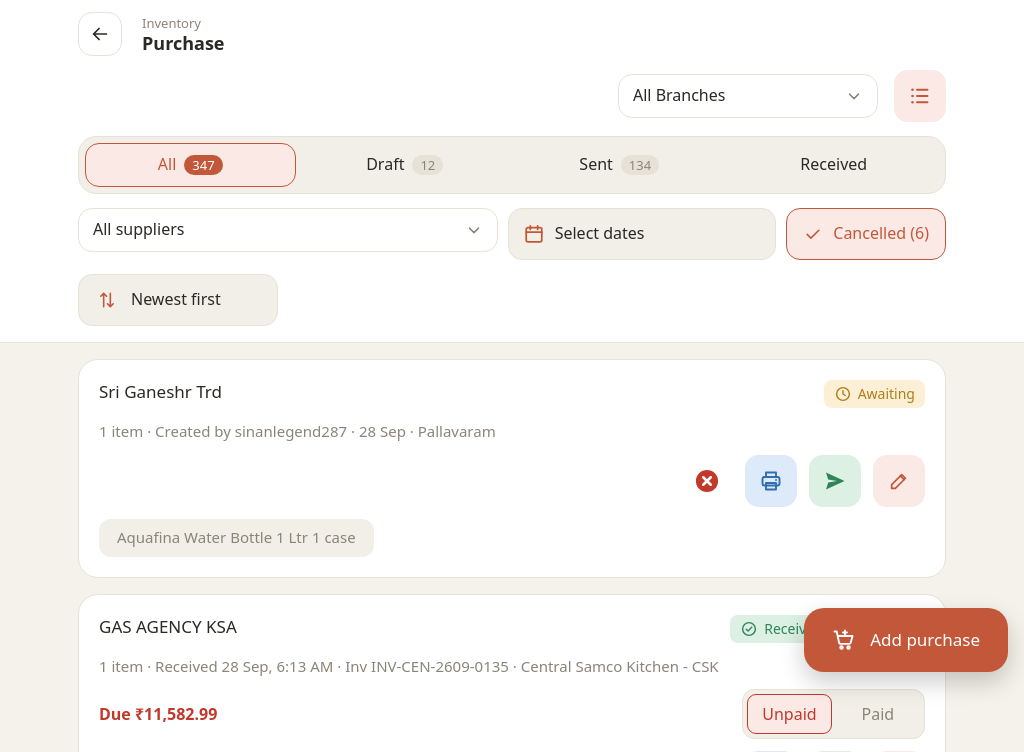
Purchase list › POW-2. the cancelled toggle, the sort menu, and the Draft and Received tabs
Click the button "Cancelled (6)" at (866, 234), box [786,208,946,260]
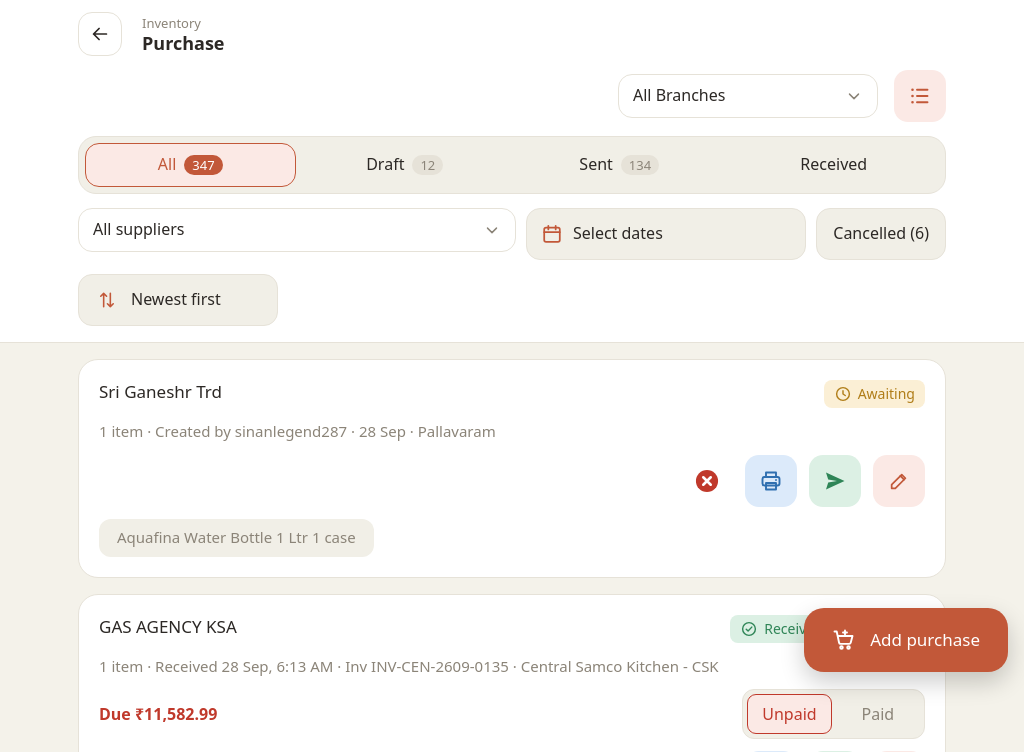
Click the button "Newest first" at (178, 300), box [78,274,278,326]
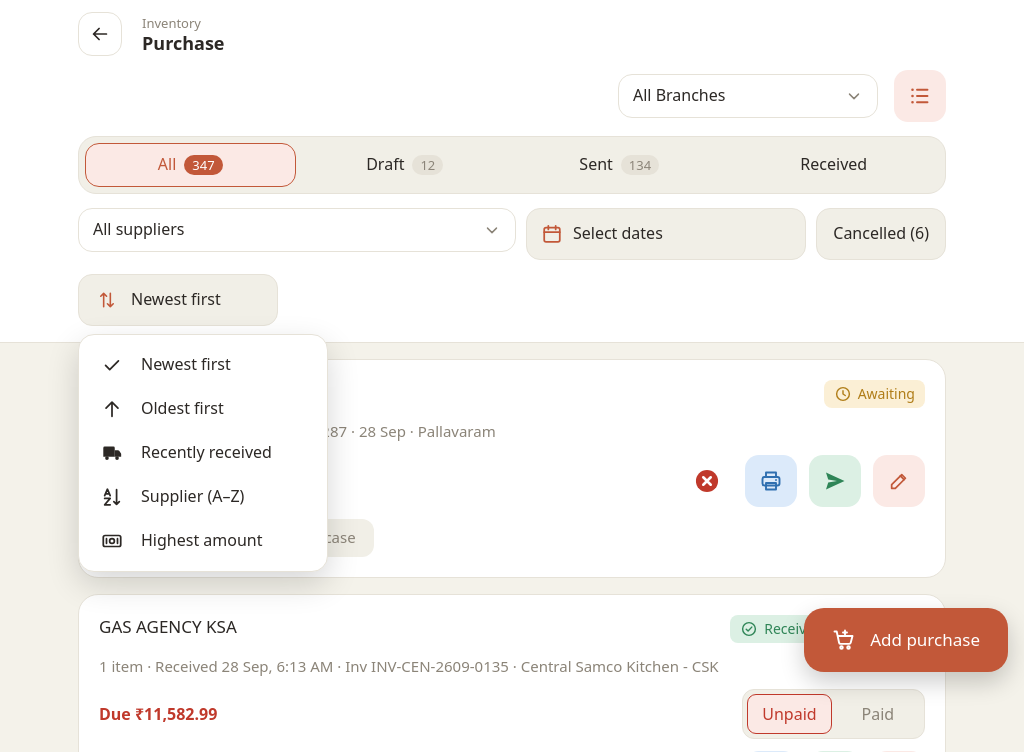
Click the menu item "Highest amount" at (203, 541), box [87,519,319,563]
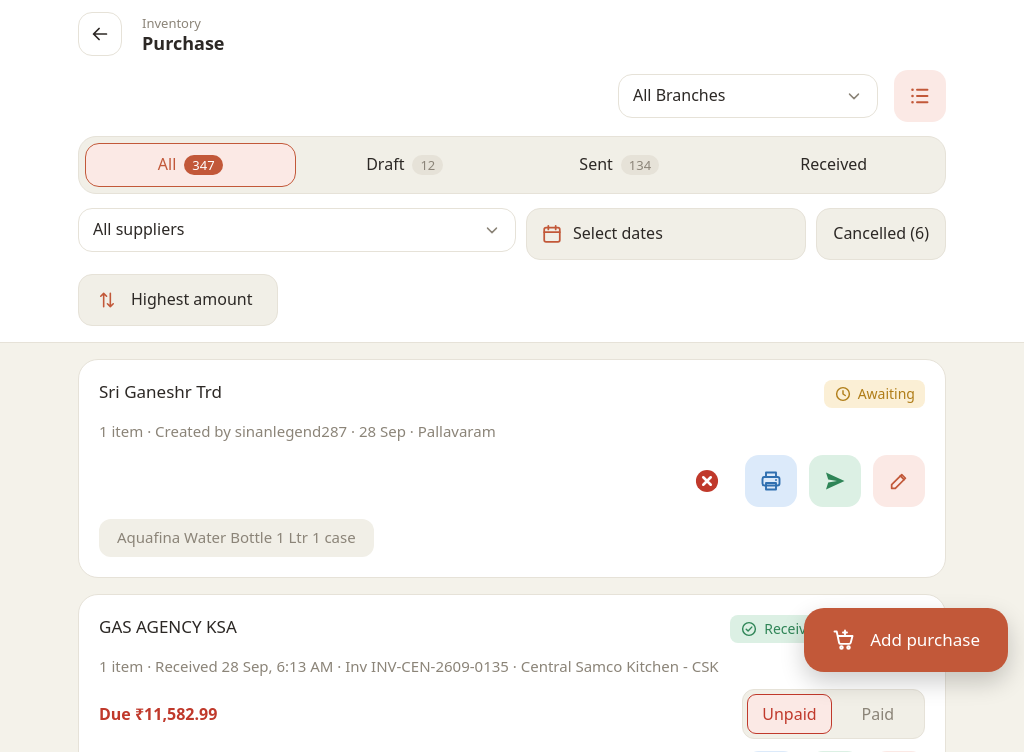
Click the tab "Received" at (834, 165), box [728,143,939,187]
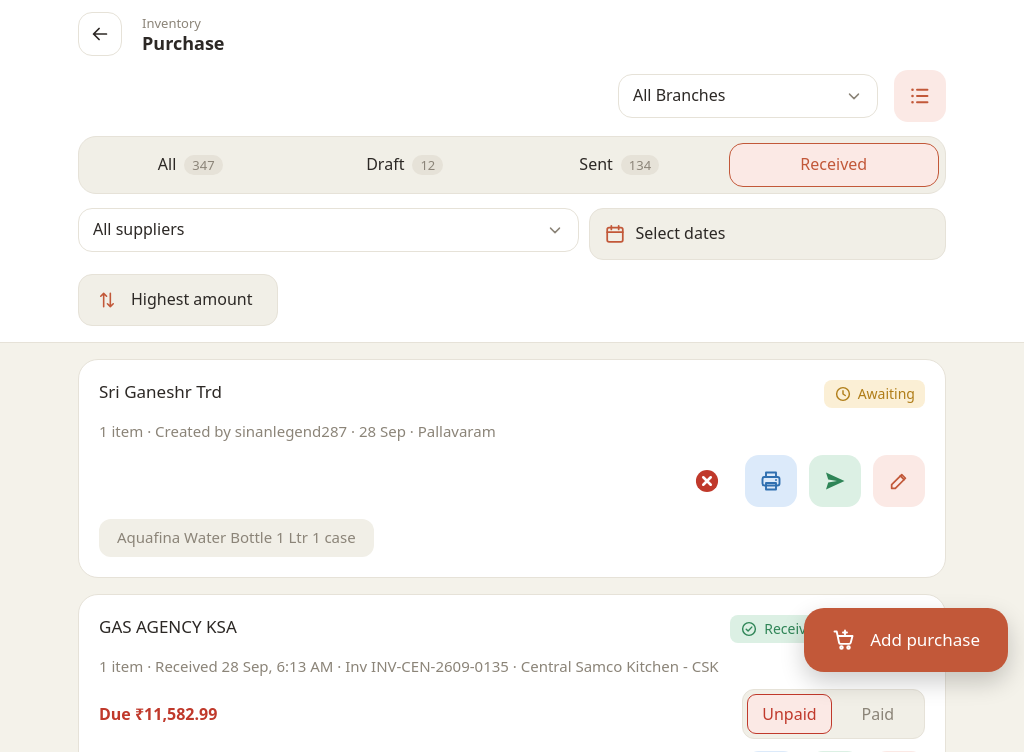
expect the button "Cancelled" is gone: met
Click the tab "Draft 12" at (405, 165), box [300,143,510,187]
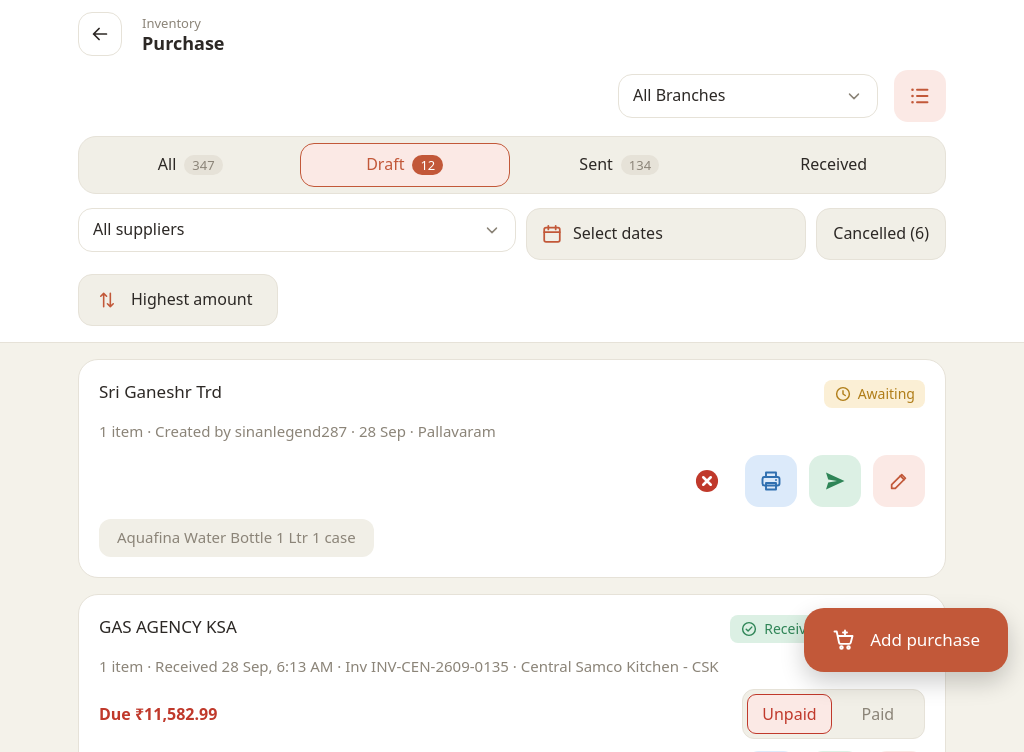
expect the button "Cancelled (6)" is shown: met, box [816,208,946,260]
